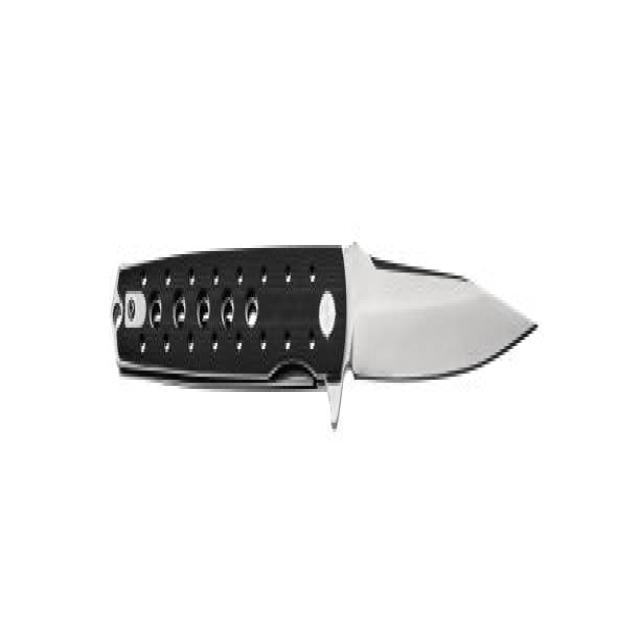knife: (107, 228, 544, 455)
